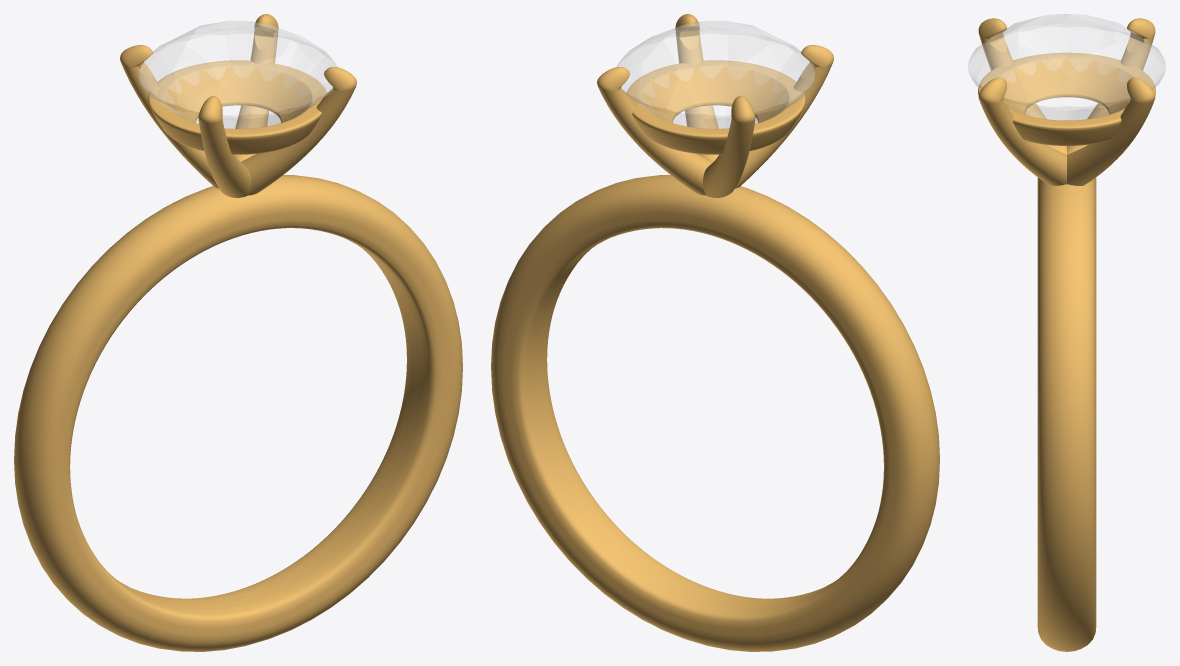
The model's file is ring.glb.
3 renders of one model, left to right at view 1: azimuth 30°, elevation 25°; view 2: azimuth 150°, elevation 25°; view 3: azimuth 270°, elevation 25°, orthographic.
Visible parts, largest first — view 1: Band, Stone_Main, Gallery, Prong_02, Prong_01, Prong_04, Prong_03; view 2: Band, Stone_Main, Gallery, Prong_03, Prong_04, Prong_01, Prong_02; view 3: Band, Stone_Main, Gallery, Prong_03, Prong_02, Prong_01, Prong_04.
Part boxes in pixels (left/top/right/bottom): Band: left=14, top=175, right=462, bottom=651; Stone_Main: left=139, top=21, right=337, bottom=154; Gallery: left=148, top=60, right=326, bottom=154; Prong_02: left=241, top=67, right=356, bottom=195; Prong_01: left=198, top=96, right=250, bottom=197; Prong_04: left=120, top=45, right=218, bottom=188; Prong_03: left=235, top=14, right=278, bottom=161; Band: left=491, top=175, right=939, bottom=651; Stone_Main: left=617, top=21, right=815, bottom=154; Gallery: left=627, top=60, right=805, bottom=154; Prong_03: left=597, top=67, right=712, bottom=195; Prong_04: left=703, top=96, right=755, bottom=197; Prong_01: left=735, top=45, right=833, bottom=188; Prong_02: left=675, top=14, right=718, bottom=161; Band: left=1037, top=177, right=1096, bottom=651; Stone_Main: left=968, top=14, right=1165, bottom=120; Gallery: left=978, top=52, right=1155, bottom=145; Prong_03: left=1067, top=77, right=1155, bottom=185; Prong_02: left=978, top=77, right=1066, bottom=185; Prong_01: left=978, top=18, right=1066, bottom=154; Prong_04: left=1067, top=18, right=1155, bottom=154.
Bounding box in the file's own units: 0.8538 × 1.11 × 0.3357.
